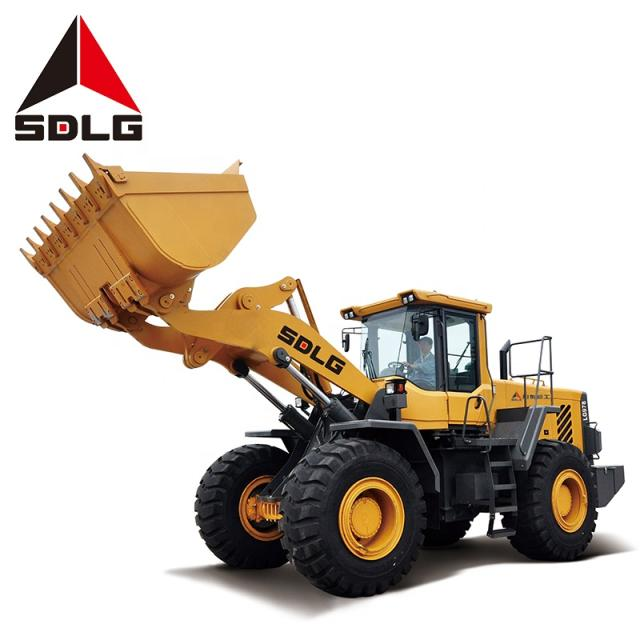buldozerpayloadergrader: (19, 154, 621, 596)
